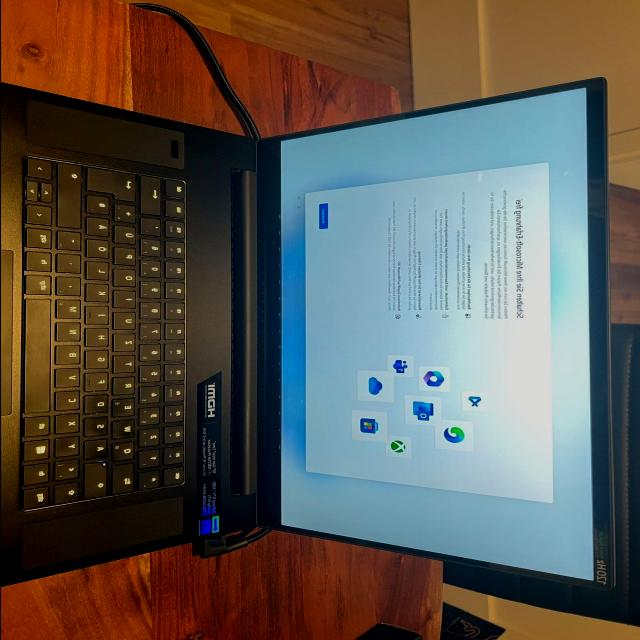0: (141, 261, 163, 279)
1: (140, 450, 162, 470)
2: (140, 429, 162, 449)
3: (140, 408, 162, 427)
4: (141, 388, 163, 406)
5: (141, 366, 163, 384)
6: (141, 345, 163, 363)
7: (141, 324, 163, 342)
8: (141, 303, 163, 321)
9: (141, 282, 163, 300)
a: (85, 440, 110, 461)
accent: (141, 219, 163, 237)
ae: (88, 218, 112, 238)
alt-left: (24, 417, 52, 439)
altgr-right: (26, 276, 54, 297)
b: (57, 347, 84, 367)
c: (56, 392, 82, 412)
caret: (140, 472, 162, 492)
comma: (58, 278, 84, 298)
d: (86, 396, 112, 416)
del: (141, 177, 163, 217)
e: (114, 399, 138, 419)
enter: (87, 168, 139, 204)
f: (86, 374, 111, 394)
g: (86, 352, 111, 371)
h: (87, 330, 111, 348)
hash: (88, 197, 112, 217)
i: (116, 292, 138, 310)
j: (86, 308, 112, 326)
k: (87, 285, 112, 304)
keyboard: (4, 130, 209, 533)
l: (88, 263, 112, 283)
less: (55, 461, 81, 483)
m: (57, 301, 84, 321)
minus: (59, 233, 84, 253)
n: (57, 324, 84, 344)
o: (115, 270, 138, 289)
oe: (88, 240, 112, 260)
p: (115, 249, 139, 267)
plus: (115, 205, 138, 225)
point: (58, 255, 83, 275)
q: (114, 443, 137, 463)
r: (114, 377, 138, 397)
s: (85, 419, 111, 439)
shift-left: (55, 484, 81, 507)
shift-lock: (85, 464, 109, 501)
shift-right: (58, 164, 84, 230)
space: (25, 301, 53, 415)
ss: (141, 240, 163, 259)
strg-left: (24, 488, 52, 513)
strg-right: (27, 229, 55, 251)
t: (114, 357, 138, 375)
tab: (114, 465, 137, 497)
u: (114, 314, 138, 332)
ue: (115, 227, 138, 246)
v: (57, 369, 83, 389)
w: (114, 421, 138, 441)
x: (56, 415, 82, 435)
y: (56, 438, 82, 458)
z: (114, 335, 138, 353)
